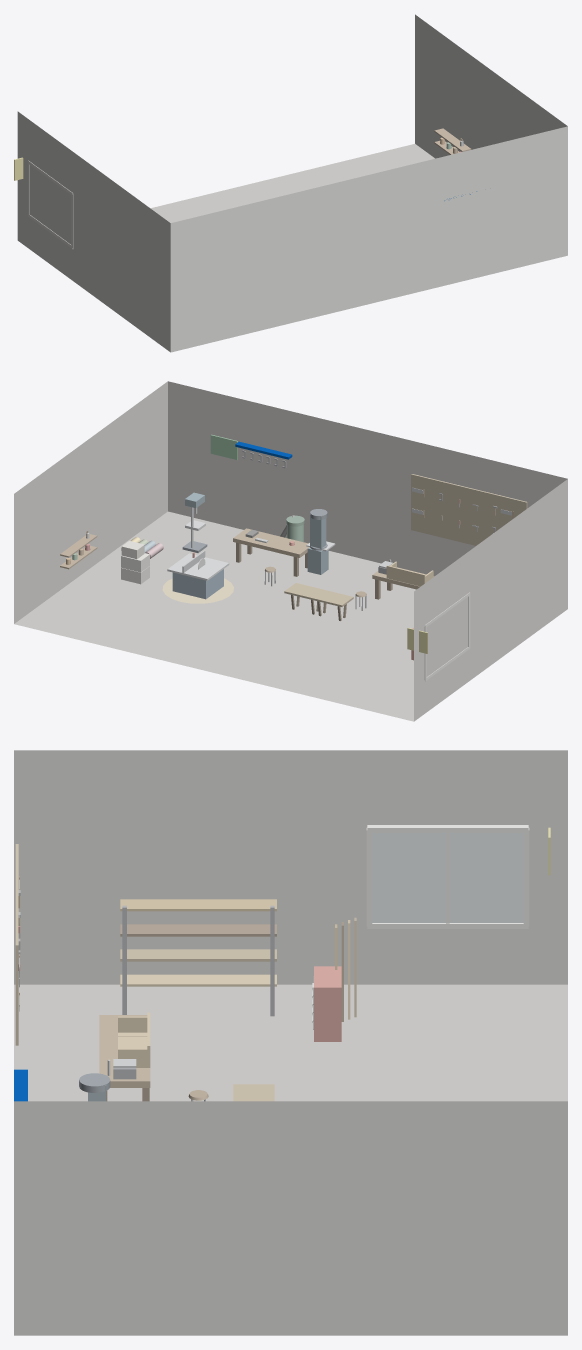
The picture shows the model from 3 angles, top to bottom: view 1: azimuth 30°, elevation 25°; view 2: azimuth 150°, elevation 25°; view 3: azimuth 270°, elevation 25°; orthographic projection. The views are drawn at different scales.
Bounding box in the file's own units: 18.39 × 5.62 × 12.
